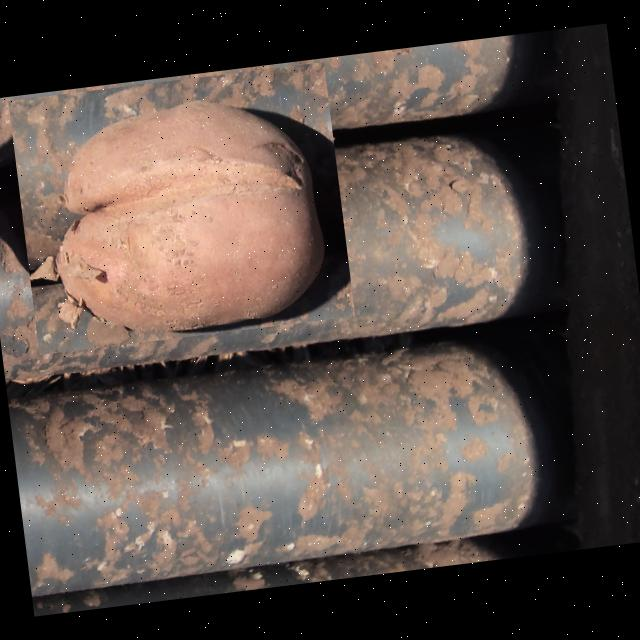Diseased-fungal potato: (8, 62, 355, 354)
